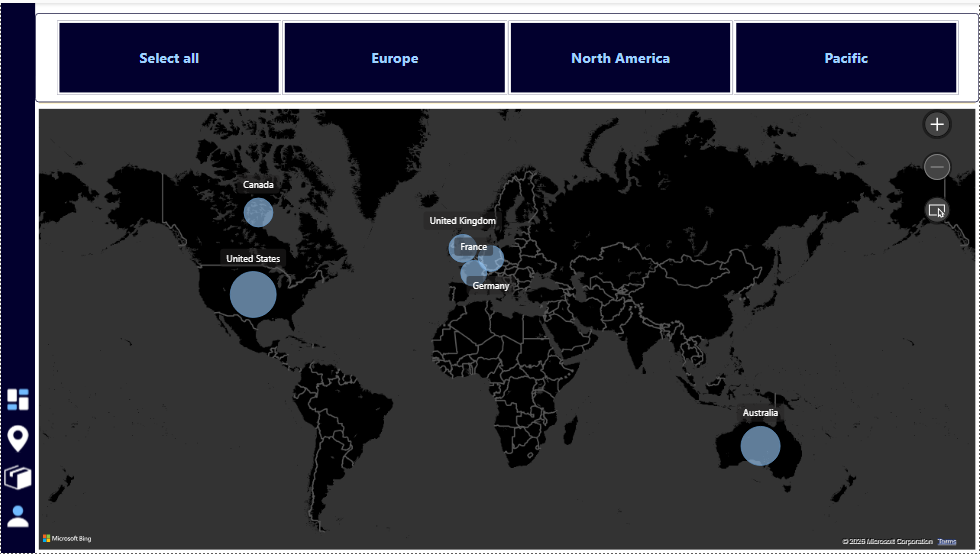

What the dashboard file says about the page in this screenshot:
{"tool":"powerbi","page":{"name":"Map","canvas":[1280,720],"ordinal":1},"visuals":[{"type":"shape","box":[0,0,45,720],"z":0},{"type":"actionButton","box":[0,542.4,44.3,57.1],"z":0,"group":"g1"},{"type":"map","fields":{"Category":["Territory Lookup.Country"],"Size":["Measure Table.Total Orders"]},"box":[44.6,95,1235.5,625],"z":1000},{"type":"actionButton","box":[0,491.4,44.3,57.1],"z":1000,"group":"g1"},{"type":"slicer","fields":{"Values":["Territory Lookup.Continent"]},"box":[44.6,13,1235.5,116.6],"z":2000},{"type":"actionButton","box":[0,644.3,44.3,57.1],"z":2000,"group":"g1"},{"type":"group","id":"g1","title":"Navigation Buttons","box":[0,491.4,44.3,210],"z":3000},{"type":"actionButton","box":[0,593.3,44.3,57.1],"z":3000,"group":"g1"}]}

Visuals, with their boxes on the page's 1280x720 design canvas (x1, y1, x2, y2). These are canvas units, not pixel positions in the 980x554 screenshot, which may show the page scaled, cropped or inside an application window:
shape: bbox(0, 0, 45, 720)
actionButton: bbox(0, 542, 44, 600)
map - Territory Lookup.Country x Measure Table.Total Orders: bbox(45, 95, 1280, 720)
actionButton: bbox(0, 491, 44, 548)
slicer - Territory Lookup.Continent: bbox(45, 13, 1280, 130)
actionButton: bbox(0, 644, 44, 701)
"Navigation Buttons" group: bbox(0, 491, 44, 701)
actionButton: bbox(0, 593, 44, 650)
